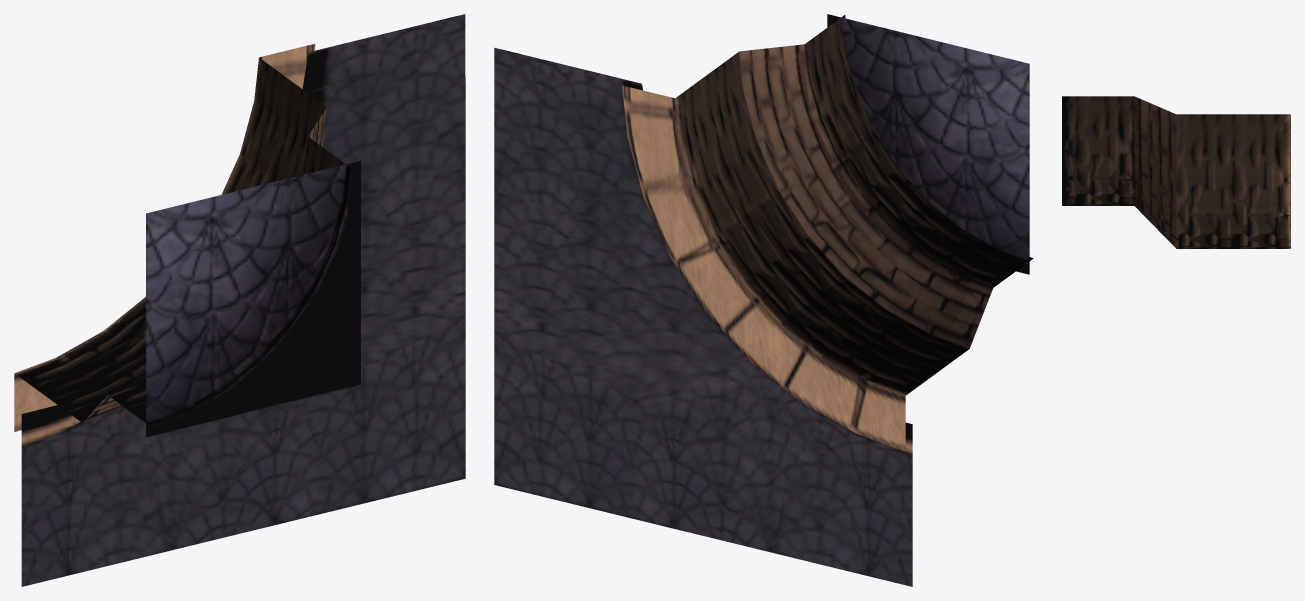
The model's file is ex_InCorner2.obj.
3 views of the same model, side by side, from view 1: azimuth 30°, elevation 25°; view 2: azimuth 150°, elevation 25°; view 3: azimuth 270°, elevation 25° (orthographic). The views are drawn at different scales.
Visible parts, largest first — view 1: object 2, ex_InCorner2_Cube.298; view 2: ex_InCorner2_Cube.298, object 2; view 3: ex_InCorner2_Cube.298.
Part boxes in pixels (x1=…): object 2: x1=21, y1=14, x2=465, y2=586; ex_InCorner2_Cube.298: x1=14, y1=44, x2=360, y2=437; ex_InCorner2_Cube.298: x1=622, y1=14, x2=1033, y2=451; object 2: x1=494, y1=47, x2=912, y2=586; ex_InCorner2_Cube.298: x1=1062, y1=96, x2=1290, y2=248.
Bounding box in the file's own units: 256 × 256 × 136.
